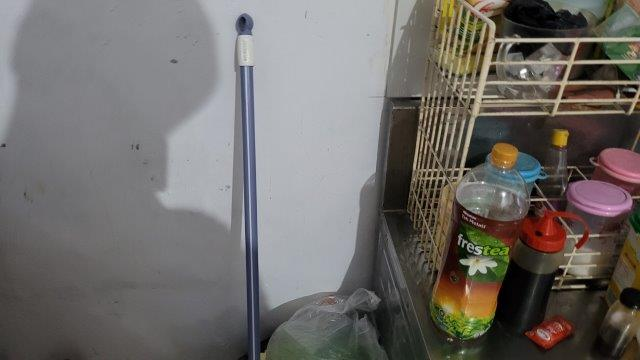botolplastik: (429, 143, 531, 343)
plastik: (269, 287, 388, 360)
